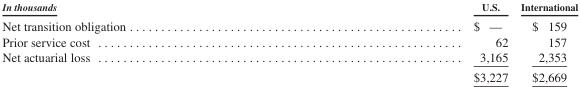table: (1, 0, 577, 83)
table column: (1, 0, 298, 83), (298, 0, 513, 83), (513, 0, 577, 83)
table column header: (1, 0, 577, 15)
table row: (1, 15, 577, 33), (1, 48, 577, 66), (1, 66, 577, 83), (1, 0, 577, 15), (1, 33, 577, 48)
